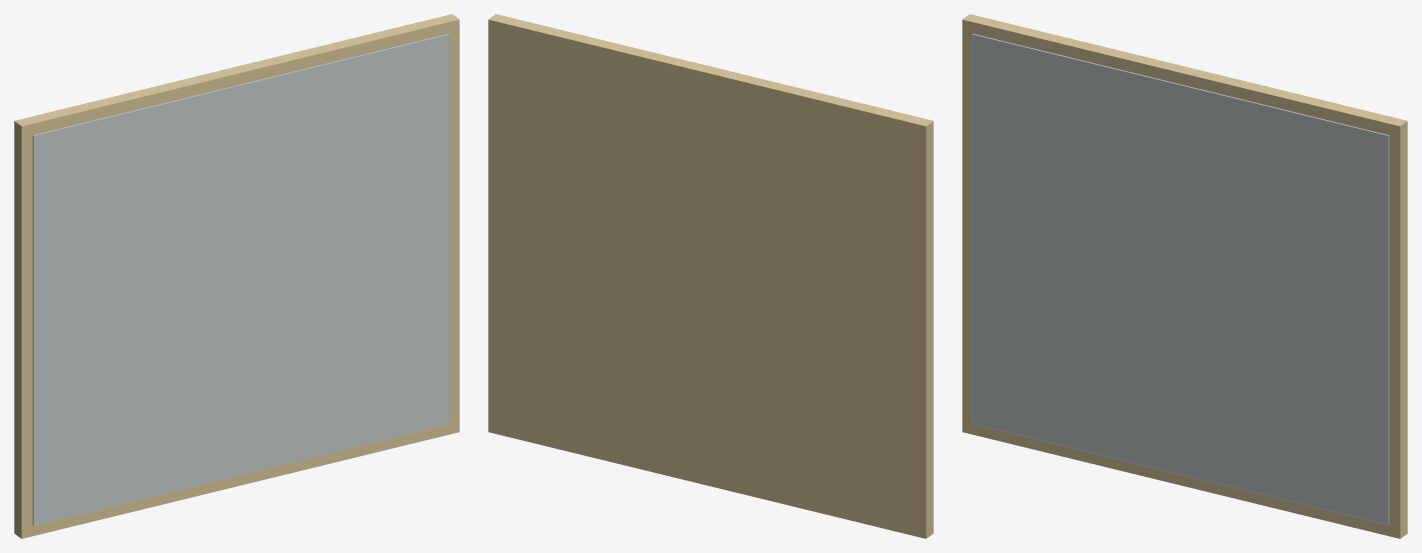
The model's file is espelho_100x90.glb.
The picture shows the model from 3 angles, left to right: view 1: azimuth 30°, elevation 25°; view 2: azimuth 150°, elevation 25°; view 3: azimuth 330°, elevation 25°; orthographic projection.
Parts seen in each view (by area): view 1: espelho_100x90; view 2: espelho_100x90; view 3: espelho_100x90.
Part boxes in pixels (x1=…): espelho_100x90: x1=14, y1=14, x2=459, y2=538; espelho_100x90: x1=488, y1=14, x2=933, y2=538; espelho_100x90: x1=962, y1=14, x2=1407, y2=538.
Size of the model in its own units: 1 by 0.9 by 0.034.
